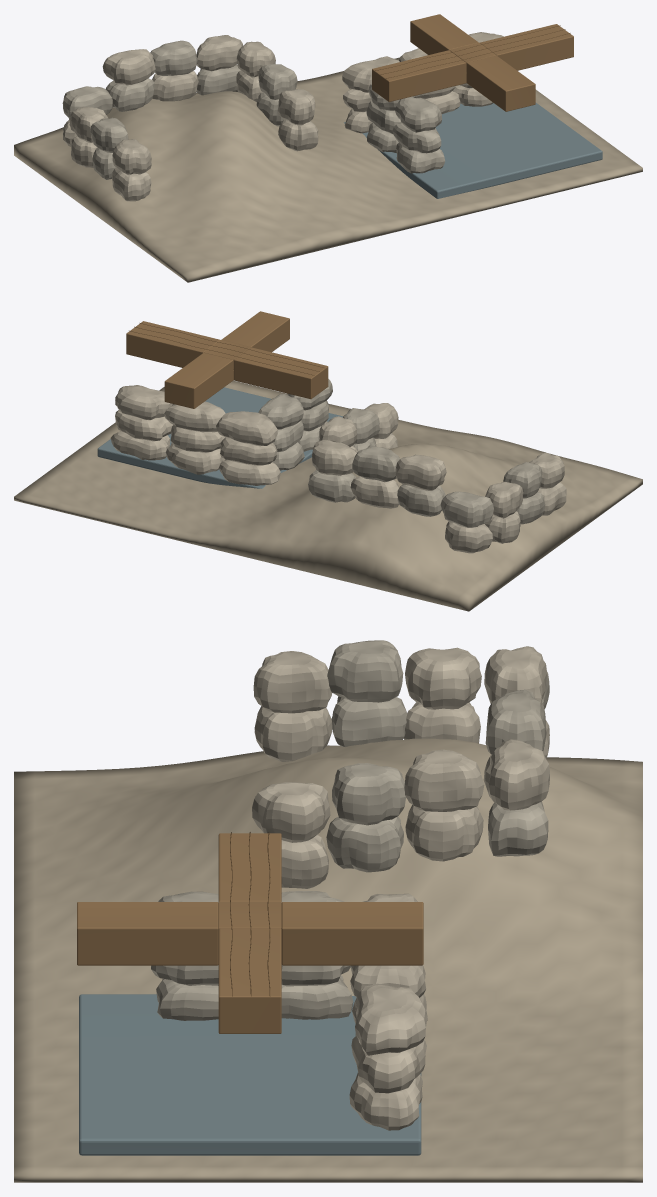
Rendered from david-city.glb.
3 renders of one model, top to bottom at view 1: azimuth 30°, elevation 25°; view 2: azimuth 150°, elevation 25°; view 3: azimuth 270°, elevation 25°, orthographic. The views are drawn at different scales.
Visible parts, largest first — view 1: david-city-david-modern-desk-ground, david-city-david-original-pale-construction-stone, david-city-david-modern-comparison-fixture, david-city-david-selected-timber-comparison, david-city-david-original-rough-construction-stone, david-city-david-original-rough-construction-stone.001, david-city-david-original-pale-construction-stone.001, david-city-david-timber-grain-lines; view 2: david-city-david-modern-desk-ground, david-city-david-original-pale-construction-stone.001, david-city-david-selected-timber-comparison, david-city-david-original-pale-construction-stone, david-city-david-original-rough-construction-stone, david-city-david-original-rough-construction-stone.001, david-city-david-modern-comparison-fixture, david-city-david-timber-grain-lines; view 3: david-city-david-modern-desk-ground, david-city-david-modern-comparison-fixture, david-city-david-original-pale-construction-stone, david-city-david-selected-timber-comparison, david-city-david-original-rough-construction-stone, david-city-david-original-pale-construction-stone.001, david-city-david-original-rough-construction-stone.001.
Boxes of the visible parts, x1=… form: david-city-david-modern-desk-ground: x1=14, y1=57, x2=642, y2=282; david-city-david-original-pale-construction-stone: x1=63, y1=35, x2=318, y2=201; david-city-david-modern-comparison-fixture: x1=344, y1=102, x2=602, y2=198; david-city-david-selected-timber-comparison: x1=372, y1=14, x2=573, y2=111; david-city-david-original-rough-construction-stone: x1=62, y1=40, x2=297, y2=179; david-city-david-original-rough-construction-stone.001: x1=366, y1=84, x2=445, y2=173; david-city-david-original-pale-construction-stone.001: x1=342, y1=32, x2=503, y2=133; david-city-david-timber-grain-lines: x1=375, y1=25, x2=570, y2=78; david-city-david-modern-desk-ground: x1=14, y1=380, x2=642, y2=611; david-city-david-original-pale-construction-stone.001: x1=110, y1=385, x2=280, y2=485; david-city-david-selected-timber-comparison: x1=126, y1=311, x2=328, y2=408; david-city-david-original-pale-construction-stone: x1=312, y1=403, x2=566, y2=553; david-city-david-original-rough-construction-stone: x1=308, y1=408, x2=545, y2=527; david-city-david-original-rough-construction-stone.001: x1=258, y1=379, x2=332, y2=470; david-city-david-modern-comparison-fixture: x1=97, y1=387, x2=343, y2=488; david-city-david-timber-grain-lines: x1=129, y1=323, x2=324, y2=375; david-city-david-modern-desk-ground: x1=14, y1=738, x2=642, y2=1182; david-city-david-modern-comparison-fixture: x1=79, y1=994, x2=421, y2=1155; david-city-david-original-pale-construction-stone: x1=252, y1=646, x2=549, y2=888; david-city-david-selected-timber-comparison: x1=77, y1=833, x2=423, y2=1033; david-city-david-original-rough-construction-stone: x1=326, y1=640, x2=549, y2=872; david-city-david-original-pale-construction-stone.001: x1=349, y1=893, x2=427, y2=1130; david-city-david-original-rough-construction-stone.001: x1=151, y1=891, x2=353, y2=1020.
Size of the model in its own units: 1.36 by 0.3052 by 0.9.
